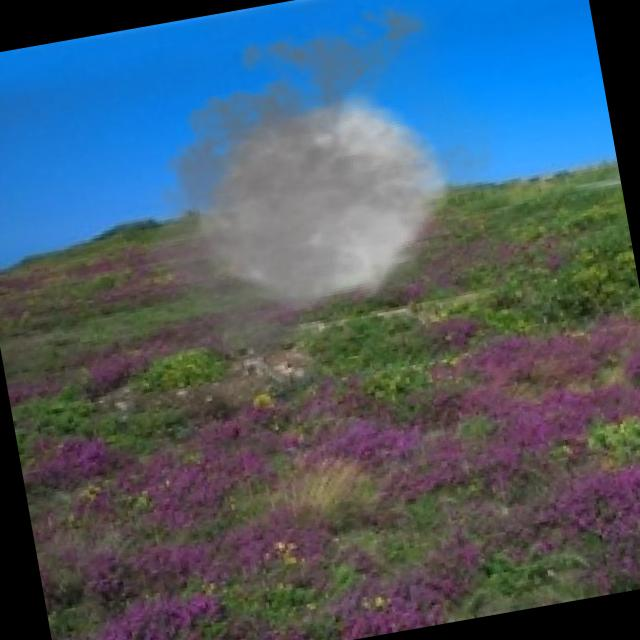Smoke: (89, 0, 546, 388)
